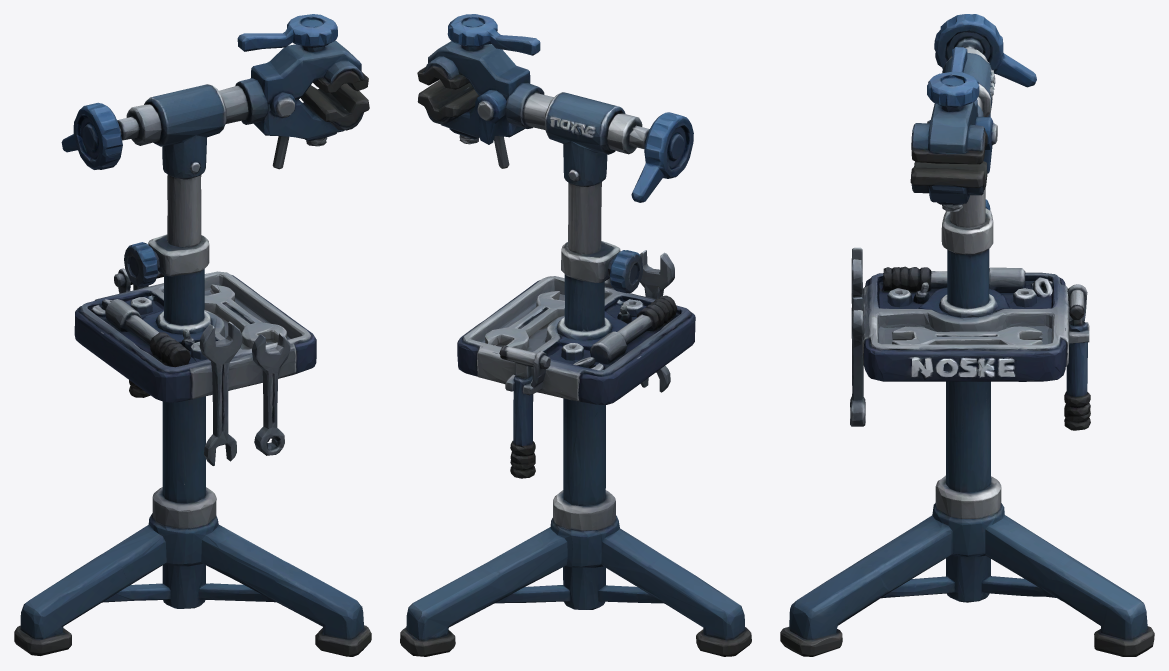
Rendered from bike-workstand.glb.
The picture shows the model from 3 angles, left to right: view 1: azimuth 30°, elevation 25°; view 2: azimuth 150°, elevation 25°; view 3: azimuth 270°, elevation 25°; orthographic projection. The views are drawn at different scales.
Visible parts, largest first — view 1: bike-workstand; view 2: bike-workstand; view 3: bike-workstand.
Part boxes in pixels (x1=…): bike-workstand: x1=14, y1=14, x2=371, y2=656; bike-workstand: x1=400, y1=14, x2=751, y2=656; bike-workstand: x1=780, y1=14, x2=1154, y2=656.
Bounding box in the file's own units: 0.9681 × 1.6 × 0.9281.
Materials: 1 (1 with a texture image).
